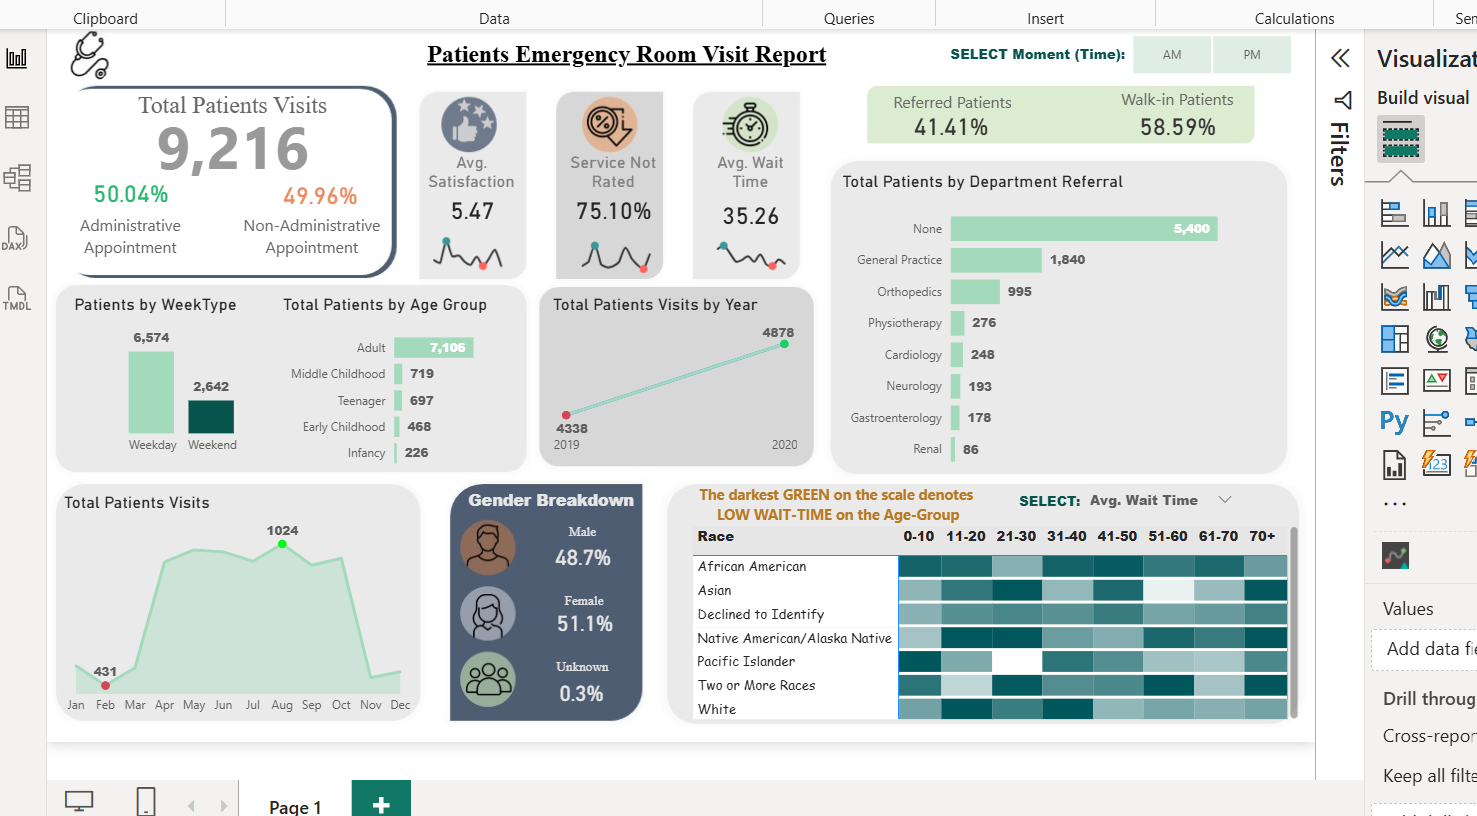

Layout of this report page (visuals, bound fields, positions):
{"tool":"powerbi","page":{"name":"Page 1","canvas":[1280,720],"ordinal":0},"visuals":[{"type":"card","fields":{"Values":["Calculations.Total Patients"]},"box":[37.9,63.7,298.8,103.1],"z":0},{"type":"card","fields":{"Values":["Calculations.% Administrative Schedule"]},"box":[33.4,144.1,101.6,42.5],"z":1000},{"type":"card","fields":{"Values":["Calculations.% None - Administrative Schedule"]},"box":[227.5,144.1,97.1,45.5],"z":2000},{"type":"card","title":"Service Not Rated","fields":{"Values":["Calculations.% that didn't rate us"]},"box":[509.6,124.4,122.8,77.3],"z":3000},{"type":"pivotTable","fields":{"Rows":["Patients Dataset.Race"],"Columns":["Patients Dataset.Age Bucket"],"Values":["Parameter.Selected Measure Value"]},"box":[646.1,495.9,621.8,204.7],"z":4000},{"type":"slicer","fields":{"Values":["Parameter.Parameter"]},"box":[1037.3,450.4,174.4,42.5],"z":5000},{"type":"barChart","fields":{"Category":["Patients Dataset.Age Group"],"Y":["Calculations.Total Patients"]},"box":[233.6,268.4,236.6,186.5],"z":6000},{"type":"areaChart","title":"Total Patients Visits","fields":{"Category":["Date.Month"],"Y":["Calculations.Total Patients","Calculations.Values Max Point (Month)"]},"box":[12.1,468.6,360.9,232],"z":7000},{"type":"slicer","fields":{"Values":["Patients Dataset.Moment"]},"box":[1070.7,0,209.3,51.6],"z":8000},{"type":"lineChart","title":"Total Patients Visits by Year","fields":{"Y":["Calculations.Total Patients","Calculations.Values Max Point (Year)"],"Category":["Date.Year"]},"box":[505,268.4,256.3,169.9],"z":9000},{"type":"clusteredBarChart","fields":{"Y":["Calculations.Total Patients"],"Category":["Patients Dataset.Department Referral"]},"box":[797.7,144.1,430.7,310.9],"z":10000},{"type":"card","fields":{"Values":["Parameter.Selected Measure Description"]},"box":[627.9,443.9,339.7,71.3],"z":11000},{"type":"clusteredColumnChart","title":"Patients  by WeekType","fields":{"Y":["Calculations.Total Patients"],"Category":["Date.WeekType"]},"box":[22.7,268.4,227.5,169.9],"z":12000},{"type":"textbox","box":[0,182,168.3,60.7],"z":13000},{"type":"textbox","box":[183.5,182,168.3,60.7],"z":14000},{"type":"card","title":"Avg. Satisfaction","fields":{"Values":["Calculations.Average Satisfaction Score"]},"box":[373.1,124.4,112.2,77.3],"z":15000},{"type":"card","title":"Avg. Wait Time","fields":{"Values":["Calculations.Average Wait Time"]},"box":[653.6,124.4,112.2,88],"z":16000},{"type":"card","fields":{"Values":["Calculations.% Referred Patients"]},"box":[845.2,75.3,135,42.5],"z":17000},{"type":"card","fields":{"Values":["Calculations.% Un Referred Patients"]},"box":[1071.2,72.3,141,48.5],"z":18000},{"type":"textbox","box":[826.5,57.6,174.4,42.5],"z":19000},{"type":"textbox","box":[1054,54.6,174.4,42.5],"z":20000},{"type":"card","fields":{"Values":["Calculations.% Female Visit"]},"box":[481.8,512.1,118.3,40.9],"z":21000},{"type":"card","fields":{"Values":["Calculations.% Male Visit"]},"box":[482.3,580.3,118.3,39.4],"z":22000},{"type":"card","fields":{"Values":["Calculations.% Unknown Visit"]},"box":[480.8,649.1,118.3,40.9],"z":23000},{"type":"textbox","box":[62.2,57.6,250.2,60.7],"z":24000},{"type":"PBI_CV_25997FEB_F466_44FA_B562_AC4063283C4C","fields":{"measure":["Calculations.Average Satisfaction Score"],"axis":["Date.Month"]},"box":[373.1,197.2,107.7,53.1],"z":25000},{"type":"PBI_CV_25997FEB_F466_44FA_B562_AC4063283C4C","fields":{"axis":["Date.Month"],"measure":["Calculations.% No Rating"]},"box":[521.7,201.7,107.7,51.6],"z":26000},{"type":"PBI_CV_25997FEB_F466_44FA_B562_AC4063283C4C","fields":{"axis":["Date.Month"],"measure":["Calculations.Average Wait Time"]},"box":[658.2,201.7,107.7,48.5],"z":27000},{"type":"textbox","box":[417.1,459.5,185,53.1],"z":28000},{"type":"textbox","box":[493.9,492.4,94,40.9],"z":29000},{"type":"textbox","box":[494.4,561.1,94,40.9],"z":30000},{"type":"textbox","box":[492.9,627.9,94,40.9],"z":31000},{"type":"textbox","box":[960,462.6,104.6,47],"z":32000},{"type":"textbox","box":[372.5,6.1,425.5,39.4],"z":33000},{"type":"textbox","box":[887.2,10.6,226,28.8],"z":34000}]}

Visuals, with their boxes on the page's 1280x720 design canvas (x1, y1, x2, y2). These are canvas units, not pixel positions in the 1477x816 screenshot, which may show the page scaled, cropped or inside an application window:
card - Calculations.Total Patients: (left=38, top=64, right=337, bottom=167)
card - Calculations.% Administrative Schedule: (left=33, top=144, right=135, bottom=187)
card - Calculations.% None - Administrative Schedule: (left=228, top=144, right=325, bottom=190)
"Service Not Rated" card: (left=510, top=124, right=632, bottom=202)
pivotTable - Patients Dataset.Race x Patients Dataset.Age Bucket: (left=646, top=496, right=1268, bottom=701)
slicer - Parameter.Parameter: (left=1037, top=450, right=1212, bottom=493)
barChart - Patients Dataset.Age Group x Calculations.Total Patients: (left=234, top=268, right=470, bottom=455)
"Total Patients Visits" areaChart: (left=12, top=469, right=373, bottom=701)
slicer - Patients Dataset.Moment: (left=1071, top=0, right=1280, bottom=52)
"Total Patients Visits by Year" lineChart: (left=505, top=268, right=761, bottom=438)
clusteredBarChart - Calculations.Total Patients x Patients Dataset.Department Referral: (left=798, top=144, right=1228, bottom=455)
card - Parameter.Selected Measure Description: (left=628, top=444, right=968, bottom=515)
"Patients  by WeekType" clusteredColumnChart: (left=23, top=268, right=250, bottom=438)
textbox: (left=0, top=182, right=168, bottom=243)
textbox: (left=184, top=182, right=352, bottom=243)
"Avg. Satisfaction" card: (left=373, top=124, right=485, bottom=202)
"Avg. Wait Time" card: (left=654, top=124, right=766, bottom=212)
card - Calculations.% Referred Patients: (left=845, top=75, right=980, bottom=118)
card - Calculations.% Un Referred Patients: (left=1071, top=72, right=1212, bottom=121)
textbox: (left=826, top=58, right=1001, bottom=100)
textbox: (left=1054, top=55, right=1228, bottom=97)
card - Calculations.% Female Visit: (left=482, top=512, right=600, bottom=553)
card - Calculations.% Male Visit: (left=482, top=580, right=601, bottom=620)
card - Calculations.% Unknown Visit: (left=481, top=649, right=599, bottom=690)
textbox: (left=62, top=58, right=312, bottom=118)
PBI_CV_25997FEB_F466_44FA_B562_AC4063283C4C - Calculations.Average Satisfaction Score x Date.Month: (left=373, top=197, right=481, bottom=250)
PBI_CV_25997FEB_F466_44FA_B562_AC4063283C4C - Date.Month x Calculations.% No Rating: (left=522, top=202, right=629, bottom=253)
PBI_CV_25997FEB_F466_44FA_B562_AC4063283C4C - Date.Month x Calculations.Average Wait Time: (left=658, top=202, right=766, bottom=250)
textbox: (left=417, top=460, right=602, bottom=513)
textbox: (left=494, top=492, right=588, bottom=533)
textbox: (left=494, top=561, right=588, bottom=602)
textbox: (left=493, top=628, right=587, bottom=669)
textbox: (left=960, top=463, right=1065, bottom=510)
textbox: (left=372, top=6, right=798, bottom=46)
textbox: (left=887, top=11, right=1113, bottom=39)
